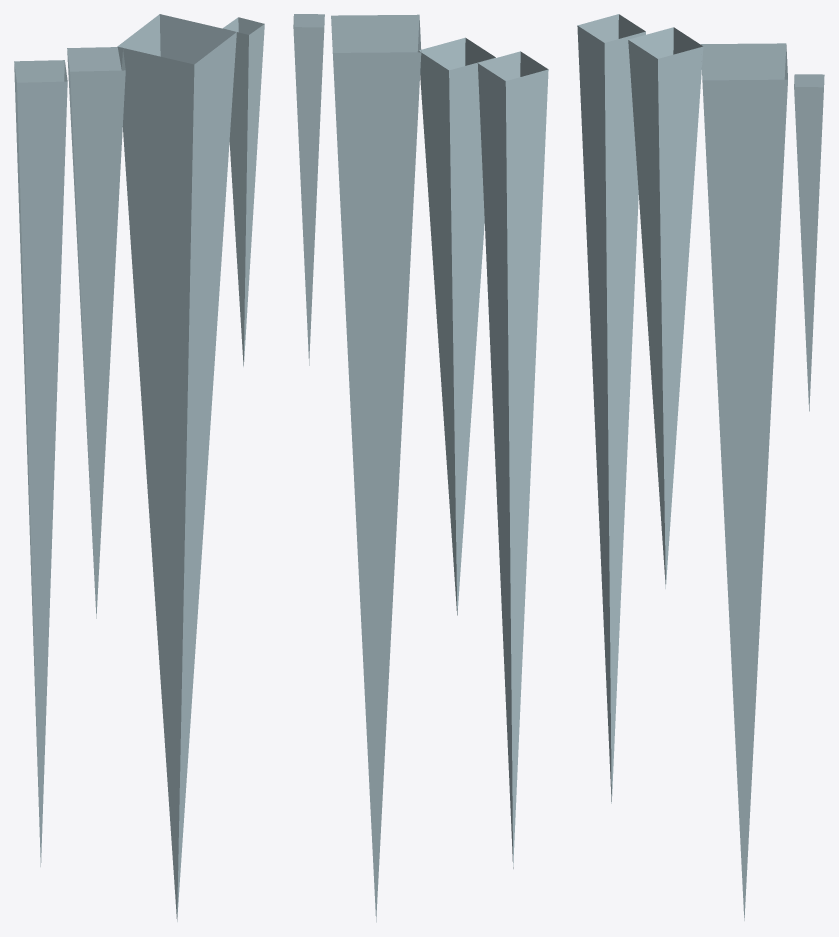
File: IceTaps_1.fbx
The picture shows the model from 3 angles, left to right: view 1: azimuth 30°, elevation 25°; view 2: azimuth 150°, elevation 25°; view 3: azimuth 330°, elevation 25°; orthographic projection. The views are drawn at different scales.
Visible parts, largest first — view 1: IceTaps_1; view 2: IceTaps_1; view 3: IceTaps_1.
Boxes of the visible parts, x1,y1,x2,y2 form: IceTaps_1: (14, 14, 264, 921); IceTaps_1: (293, 14, 548, 922); IceTaps_1: (577, 14, 824, 920).
Bounding box in the file's own units: 0.9964 × 3.36 × 0.4164.
1 material, 1 textured.
